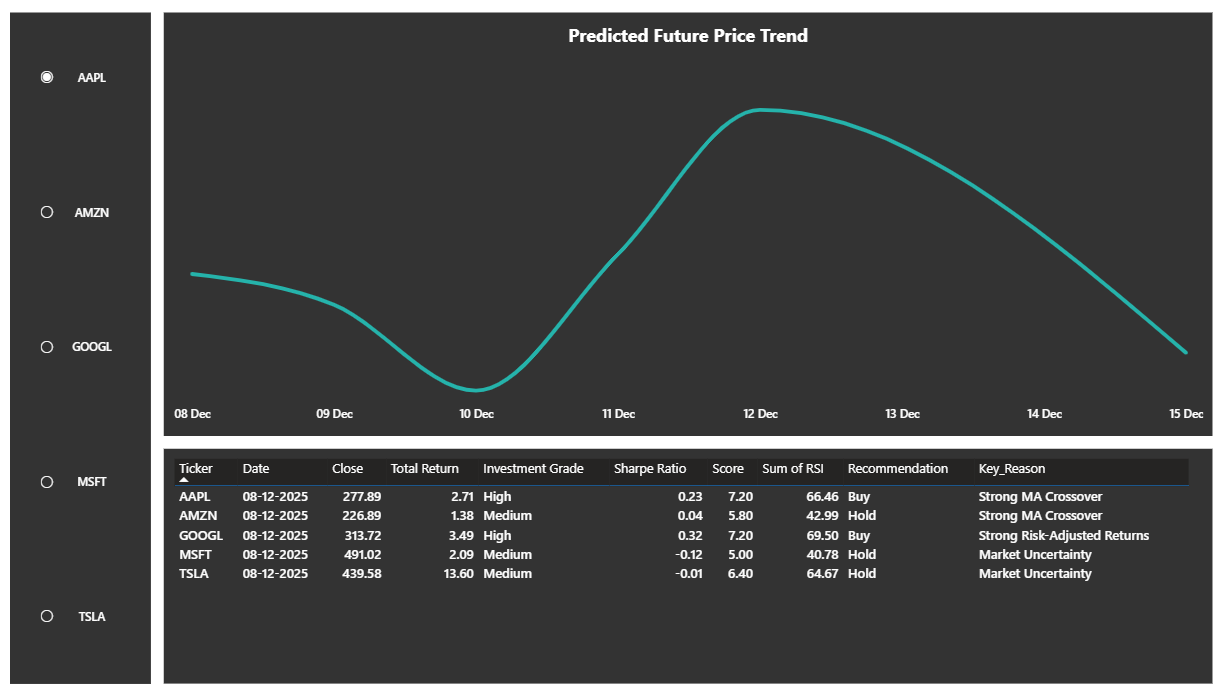

This screenshot's page, from the dashboard's own definition file:
{"tool":"powerbi","page":{"name":"Prediction and classfication ","canvas":[1280,720],"ordinal":2},"visuals":[{"type":"advancedSlicerVisual","fields":{"Values":["forecast_results.Ticker"]},"box":[10.3,12.8,146.2,697.4],"z":0},{"type":"lineChart","title":"Predicted Future Price Trend","fields":{"Category":["forecast_results.Forecast_Date"],"Y":["Sum(forecast_results.Predicted_Future_Price)"]},"box":[170.1,13,1089.6,440.3],"z":1000},{"type":"tableEx","fields":{"Values":["investment_ratings.Ticker","investment_ratings.Date","Sum(investment_ratings.Close)","Sum(investment_ratings.Total_Return)","investment_ratings.Investment_Grade","Sum(investment_ratings.Sharpe_Ratio)","Sum(investment_ratings.Score)","Sum(investment_ratings.RSI)","investment_ratings.Recommendation","investment_ratings.Key_Reason"]},"box":[170.1,466.2,1089.6,244.2],"z":1001}]}

Visuals, with their boxes in screenshot pixels (x1, y1, x2, y2), scaled from the page's 1280x720 canvas onto the 1231x693 screenshot:
advancedSlicerVisual - forecast_results.Ticker: rect(10, 12, 151, 684)
"Predicted Future Price Trend" lineChart: rect(164, 13, 1211, 436)
tableEx - investment_ratings.Ticker x investment_ratings.Date: rect(164, 449, 1211, 684)
